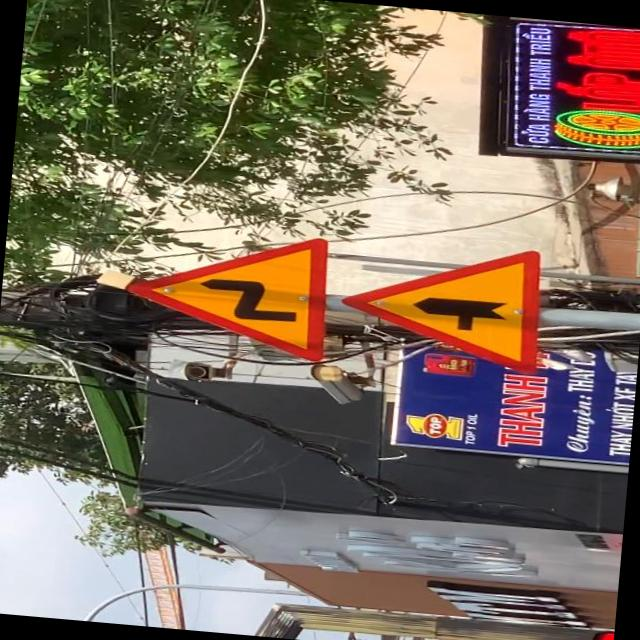W-202b: (118, 222, 328, 362)
W-207c: (338, 234, 540, 378)
